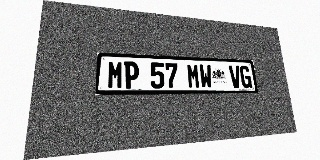5: (150, 62, 165, 89)
7: (164, 63, 179, 89)
G: (239, 66, 252, 88)
M: (107, 61, 123, 89), (186, 64, 200, 88)
P: (124, 61, 139, 89)
V: (228, 65, 242, 88)
W: (199, 64, 213, 88)
